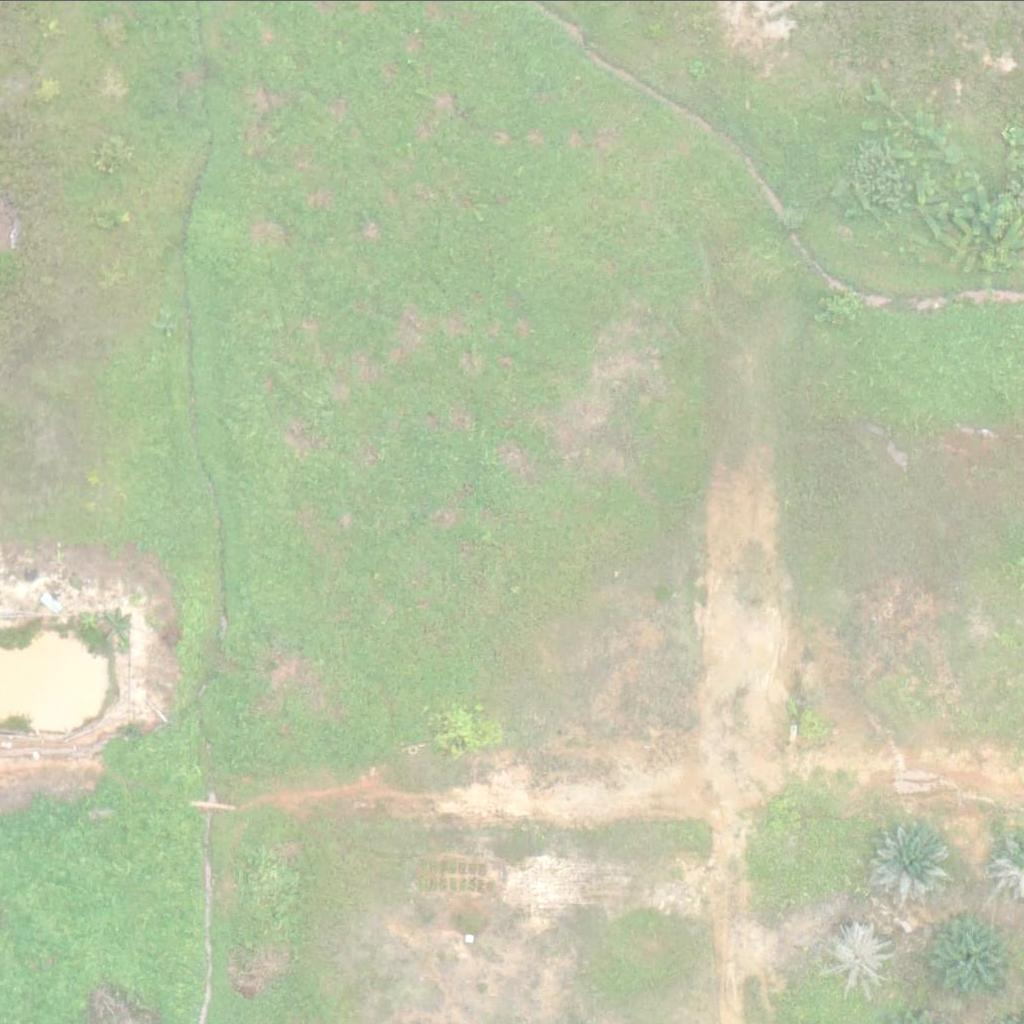Kelapa_Sawit: (921, 903, 1021, 1003), (869, 819, 957, 907), (820, 921, 896, 996)
